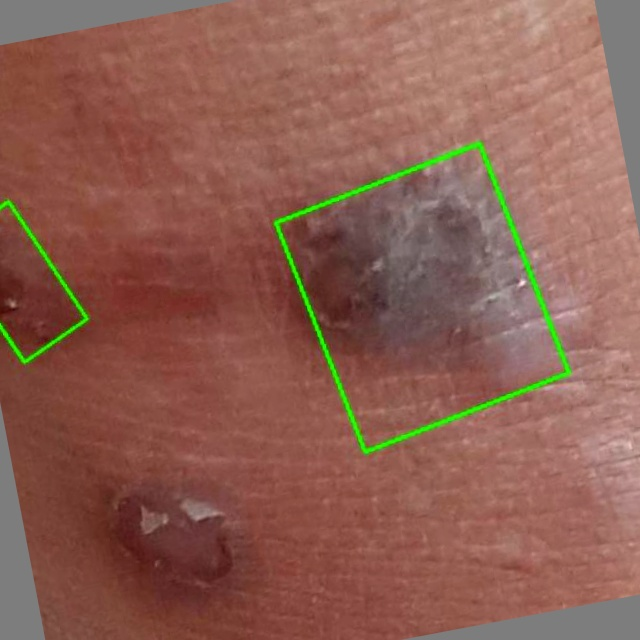Contact Dermatitis: (275, 144, 568, 452), (0, 201, 87, 362)
